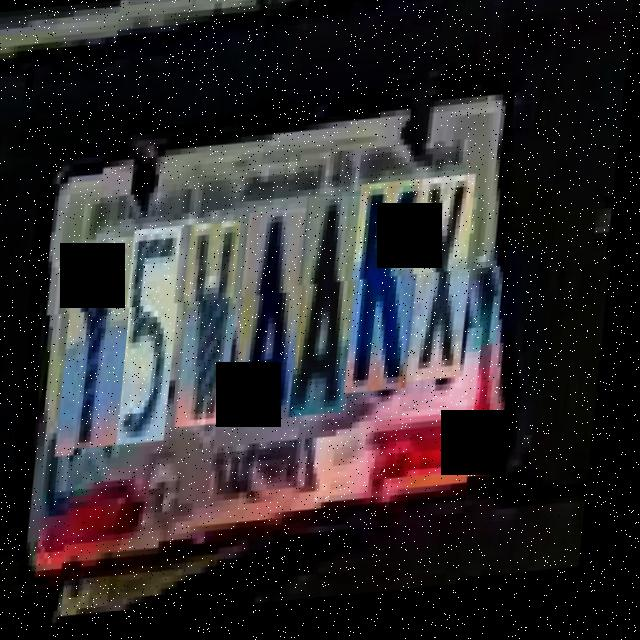5: (126, 229, 193, 448)
A: (298, 198, 370, 423), (242, 214, 314, 422)
K: (352, 188, 430, 401)
W: (184, 225, 250, 432)
X: (414, 183, 483, 391)
Y: (65, 238, 143, 454)
